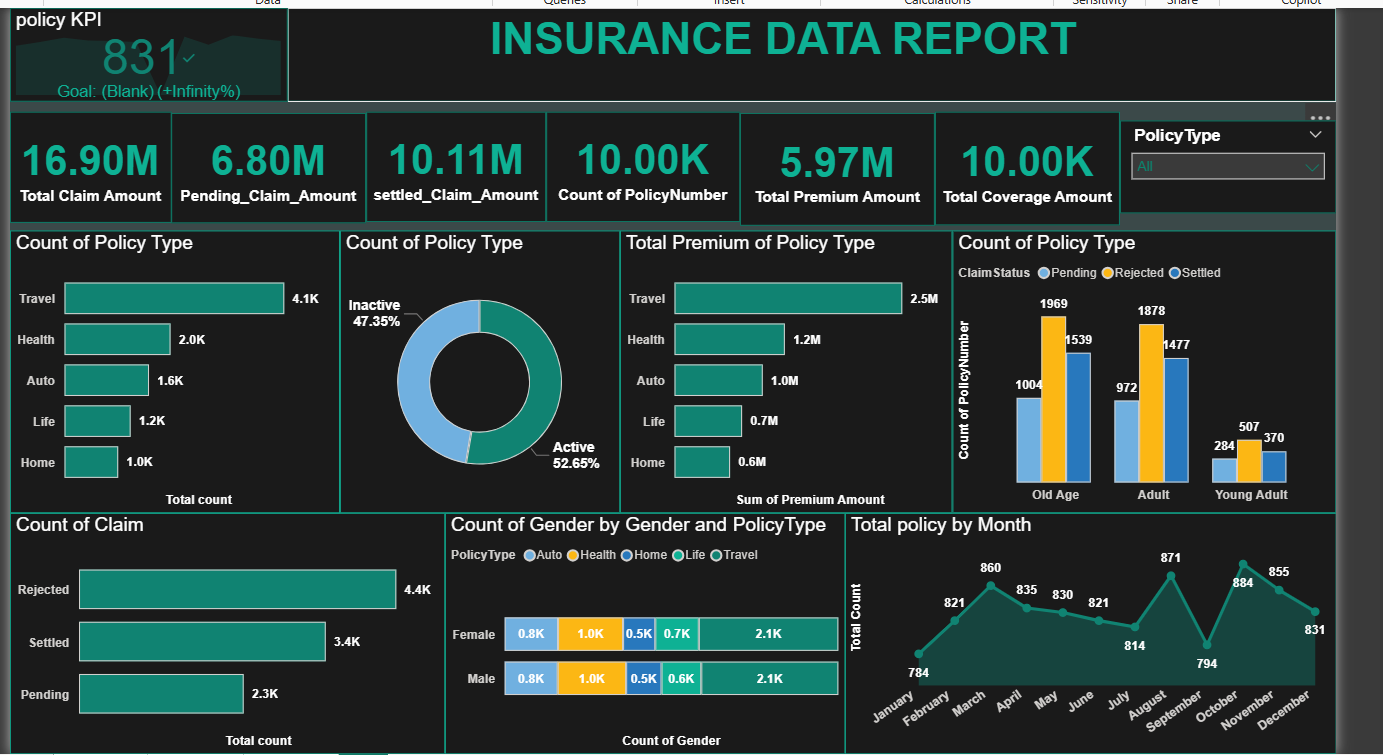

The page's visual inventory and layout, read from the dashboard file:
{"tool":"powerbi","page":{"name":"Page 1","canvas":[1280,720],"ordinal":0},"visuals":[{"type":"textbox","box":[267.8,0,1012.2,90.5],"z":0},{"type":"card","fields":{"Values":["Sum(project insurance.ClaimAmount)"]},"box":[0,100.1,155.6,107.4],"z":1000},{"type":"card","fields":{"Values":["project insurance.Pending_Claim_Amount"]},"box":[155.6,101.3,188.2,106.2],"z":2000},{"type":"card","fields":{"Values":["project insurance.settled_Claim_Amount"]},"box":[343.8,100.1,173.7,106.2],"z":3000},{"type":"card","fields":{"Values":["CountNonNull(project insurance.PolicyNumber)"]},"box":[517.6,100.1,187,106.2],"z":4000},{"type":"card","fields":{"Values":["Sum(project insurance.PremiumAmount)"]},"box":[704.6,101.3,188.2,108.6],"z":5000},{"type":"card","fields":{"Values":["CountNonNull(project insurance.CoverageAmount)"]},"box":[892.8,100.1,178.6,109.8],"z":6000},{"type":"slicer","fields":{"Values":["project insurance.PolicyType"]},"box":[1071.3,108.6,208.7,89.3],"z":7000},{"type":"barChart","title":"Count of Policy Type ","fields":{"Category":["project insurance.PolicyType"],"Y":["CountNonNull(project insurance.PolicyType)"]},"box":[0,214.7,318.5,272.7],"z":8000},{"type":"barChart","title":"Count of Claim","fields":{"Category":["project insurance.ClaimStatus"],"Y":["CountNonNull(project insurance.PolicyType)"]},"box":[0,487.4,419.8,232.8],"z":9000},{"type":"donutChart","title":"Count of Policy Type ","fields":{"Category":["project insurance.Policy_status"],"Y":["CountNonNull(project insurance.Policy_status)"]},"box":[318.5,214.7,270.2,272.7],"z":10000},{"type":"barChart","fields":{"Category":["project insurance.Gender"],"Y":["CountNonNull(project insurance.Gender)"],"Series":["project insurance.PolicyType"]},"box":[419.8,487.4,386.1,232.8],"z":11000},{"type":"barChart","title":"Total Premium of Policy Type","fields":{"Category":["project insurance.PolicyType"],"Y":["Sum(project insurance.PremiumAmount)"]},"box":[588.7,214.7,320.9,272.7],"z":12000},{"type":"areaChart","title":"Total policy by Month","fields":{"Category":["project insurance.PolicyStartDate.Variation.Date Hierarchy.Year","project insurance.PolicyStartDate.Variation.Date Hierarchy.Quarter","project insurance.PolicyStartDate.Variation.Date Hierarchy.Month","project insurance.PolicyStartDate.Variation.Date Hierarchy.Day"],"Y":["CountNonNull(project insurance.PolicyNumber)"]},"box":[805.9,487.4,474.1,232.8],"z":13000},{"type":"kpi","title":"policy KPI","fields":{"Indicator":["project insurance.Total_policy_2024"],"Goal":["project insurance.total_policy_2023"],"TrendLine":["project insurance.PolicyStartDate.Variation.Date Hierarchy.Month"]},"box":[0,0,267.8,90.5],"z":14000},{"type":"clusteredColumnChart","title":"Count of Policy Type ","fields":{"Category":["project insurance.Age_Flag"],"Y":["CountNonNull(project insurance.PolicyNumber)"],"Series":["project insurance.ClaimStatus"]},"box":[909.7,214.7,370.4,272.7],"z":15000}]}

Visuals, with their boxes on the page's 1280x720 design canvas (x1, y1, x2, y2). These are canvas units, not pixel positions in the 1383x755 screenshot, which may show the page scaled, cropped or inside an application window:
textbox: region(268, 0, 1280, 90)
card - Sum(project insurance.ClaimAmount): region(0, 100, 156, 208)
card - project insurance.Pending_Claim_Amount: region(156, 101, 344, 208)
card - project insurance.settled_Claim_Amount: region(344, 100, 518, 206)
card - CountNonNull(project insurance.PolicyNumber): region(518, 100, 705, 206)
card - Sum(project insurance.PremiumAmount): region(705, 101, 893, 210)
card - CountNonNull(project insurance.CoverageAmount): region(893, 100, 1071, 210)
slicer - project insurance.PolicyType: region(1071, 109, 1280, 198)
"Count of Policy Type " barChart: region(0, 215, 318, 487)
"Count of Claim" barChart: region(0, 487, 420, 720)
"Count of Policy Type " donutChart: region(318, 215, 589, 487)
barChart - project insurance.Gender x CountNonNull(project insurance.Gender): region(420, 487, 806, 720)
"Total Premium of Policy Type" barChart: region(589, 215, 910, 487)
"Total policy by Month" areaChart: region(806, 487, 1280, 720)
"policy KPI" kpi: region(0, 0, 268, 90)
"Count of Policy Type " clusteredColumnChart: region(910, 215, 1280, 487)
